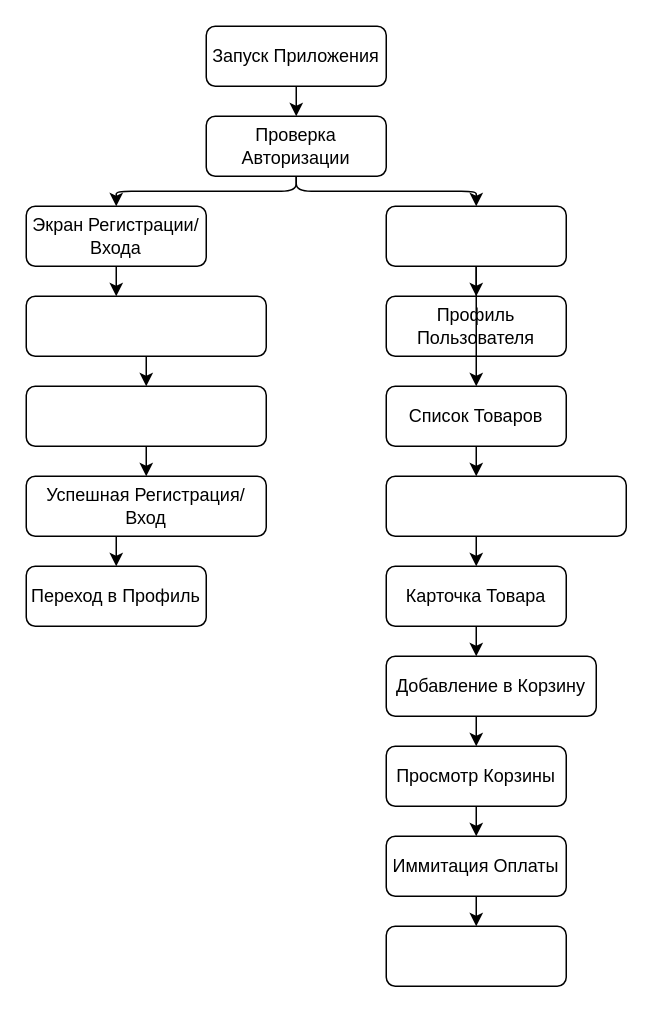
The diagram is 653 pixels wide and 1013 high, and some of its shapes have lost their labels. The box of each missing label's shape, as (x1, y1, x2, y2) in pixels:
Ввод Телефона и Подтверждение: (25, 295, 266, 356)
История Заказов: (385, 925, 566, 986)
Поиск и Фильтры Товаров: (385, 475, 626, 536)
Проверка Firebase Auth: (25, 385, 266, 446)
Экран Главного Меню: (385, 205, 566, 266)
